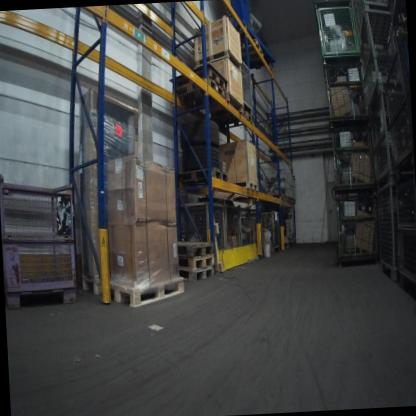pallet: (106, 265, 189, 317), (168, 66, 228, 94), (174, 167, 231, 194), (173, 82, 226, 107), (179, 264, 218, 296), (77, 268, 107, 304), (234, 34, 266, 65), (175, 247, 216, 269), (235, 179, 264, 197), (266, 191, 285, 202), (283, 194, 291, 205), (243, 112, 249, 125), (291, 196, 297, 205)
stillage: (2, 175, 84, 310), (355, 5, 409, 124), (367, 88, 409, 187), (317, 0, 363, 83), (334, 192, 380, 269), (329, 121, 376, 195), (383, 55, 413, 169), (392, 172, 416, 303), (375, 177, 403, 284), (325, 56, 366, 124), (181, 196, 224, 253), (234, 51, 255, 118), (349, 0, 391, 29), (255, 209, 279, 257), (221, 195, 242, 249), (236, 200, 252, 248), (280, 210, 297, 249), (311, 0, 349, 12), (388, 0, 406, 25)
